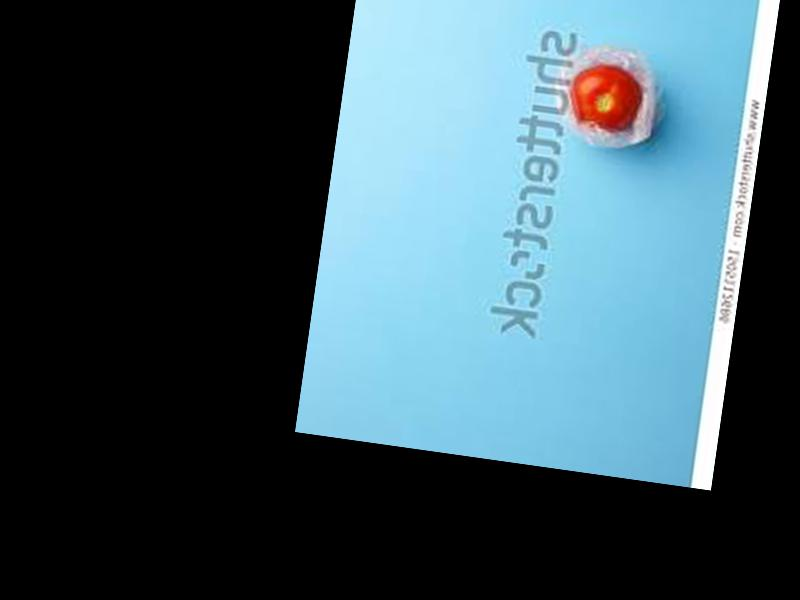Tomato: (566, 62, 643, 136)
